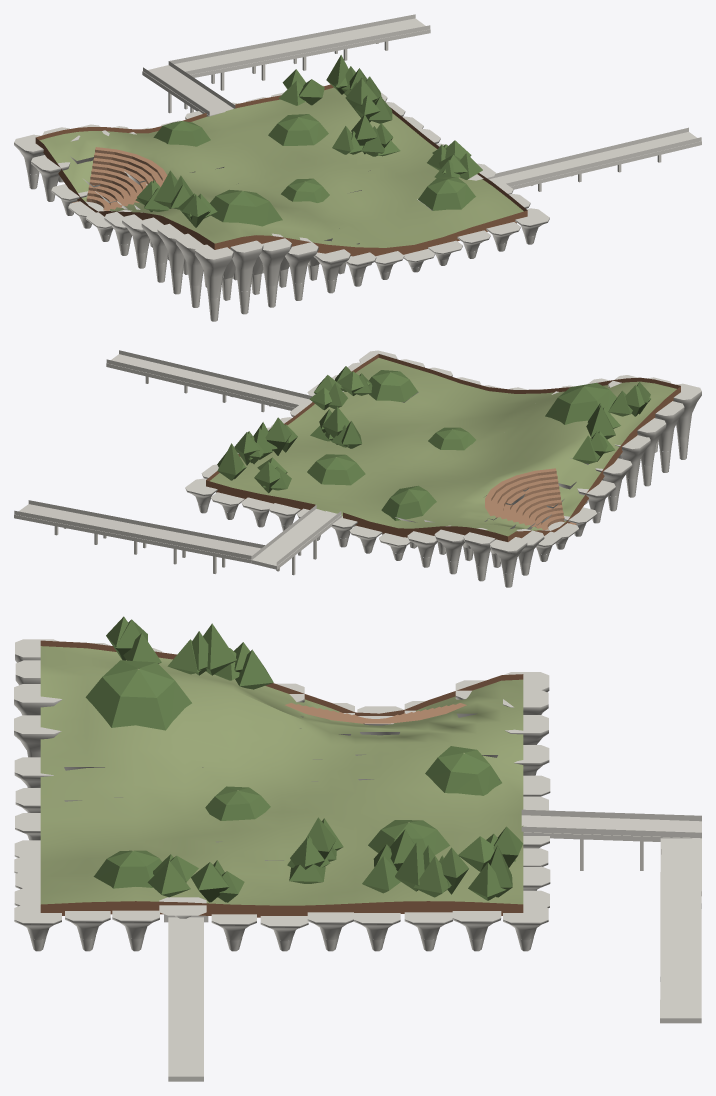
The model's file is nyc-little-island.glb.
3 renders of one model, top to bottom at view 1: azimuth 30°, elevation 25°; view 2: azimuth 150°, elevation 25°; view 3: azimuth 270°, elevation 25°, orthographic. The views are drawn at different scales.
Parts seen in each view (by area): view 1: Little Island; view 2: Little Island; view 3: Little Island.
Boxes of the visible parts, left/top/right/bottom form: Little Island: left=14, top=14, right=701, bottom=321; Little Island: left=14, top=350, right=701, bottom=587; Little Island: left=14, top=616, right=701, bottom=1081.
Bounding box in the file's own units: 155 × 26.84 × 125.
